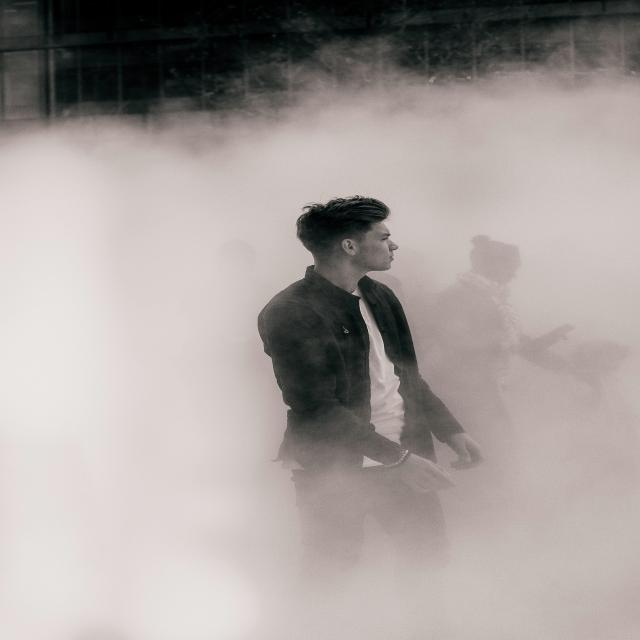adult: (266, 198, 483, 640)
